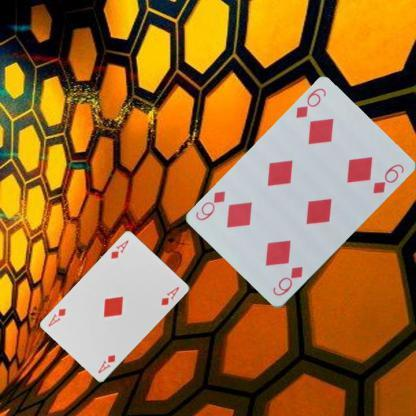6d: (293, 86, 328, 121), (270, 264, 304, 298)
Ad: (108, 238, 130, 260), (96, 352, 116, 374)
